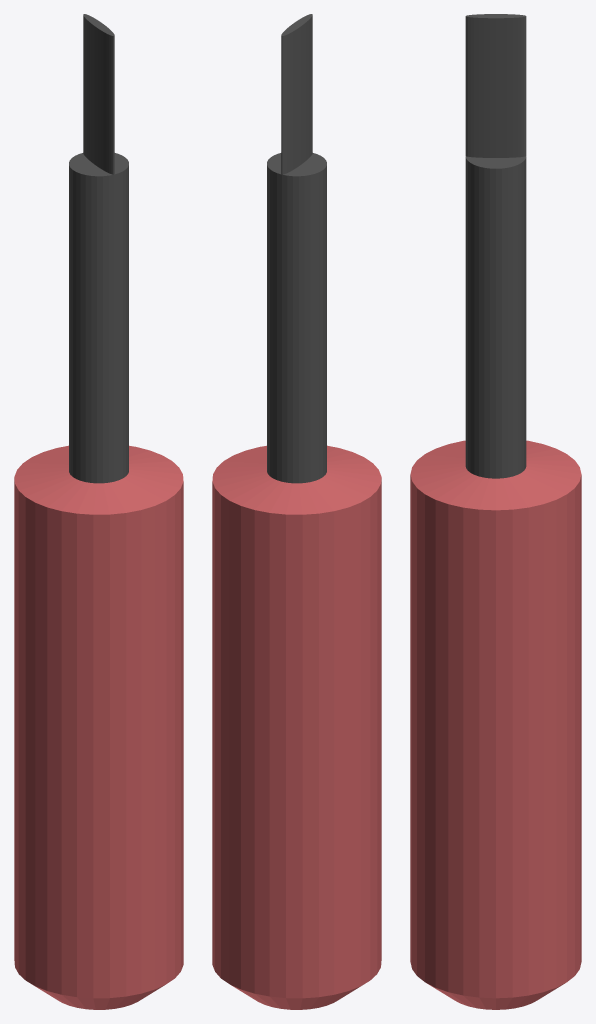
Rendered from plaski.fbx.
3 views of the same model, side by side, from view 1: azimuth 30°, elevation 25°; view 2: azimuth 150°, elevation 25°; view 3: azimuth 270°, elevation 25° (orthographic).
Parts seen in each view (by area): view 1: Cylinder; view 2: Cylinder; view 3: Cylinder.
Part boxes in pixels (bbox=[...]): Cylinder: bbox=[14, 14, 183, 1009]; Cylinder: bbox=[212, 14, 381, 1009]; Cylinder: bbox=[410, 14, 581, 1009].
Bounding box in the file's own units: 44.41 × 279 × 44.41.
